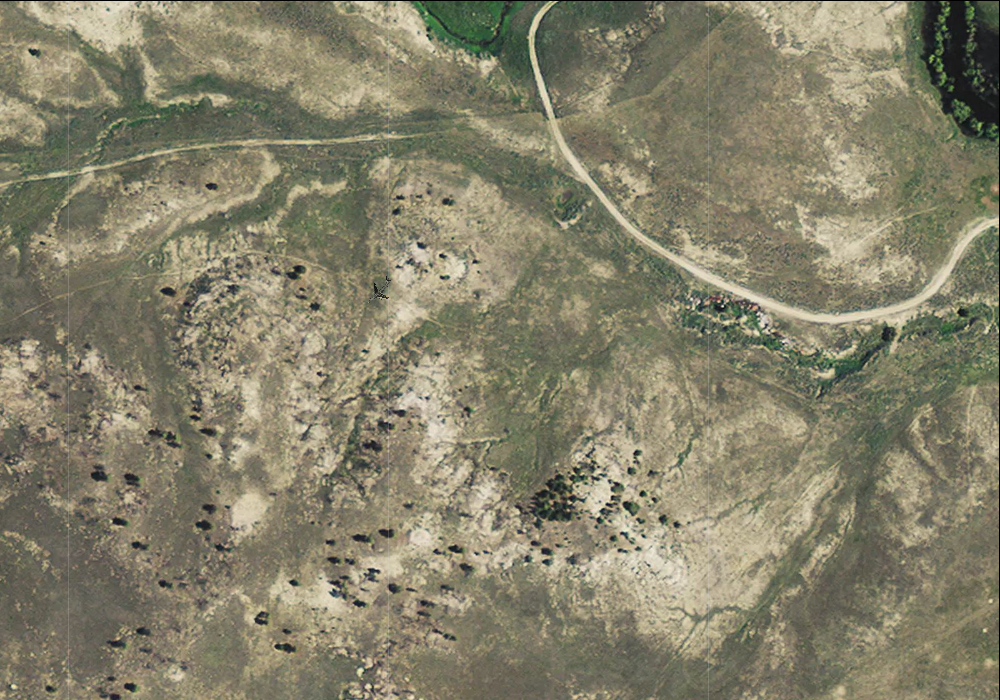plane: (358, 269, 399, 311)
